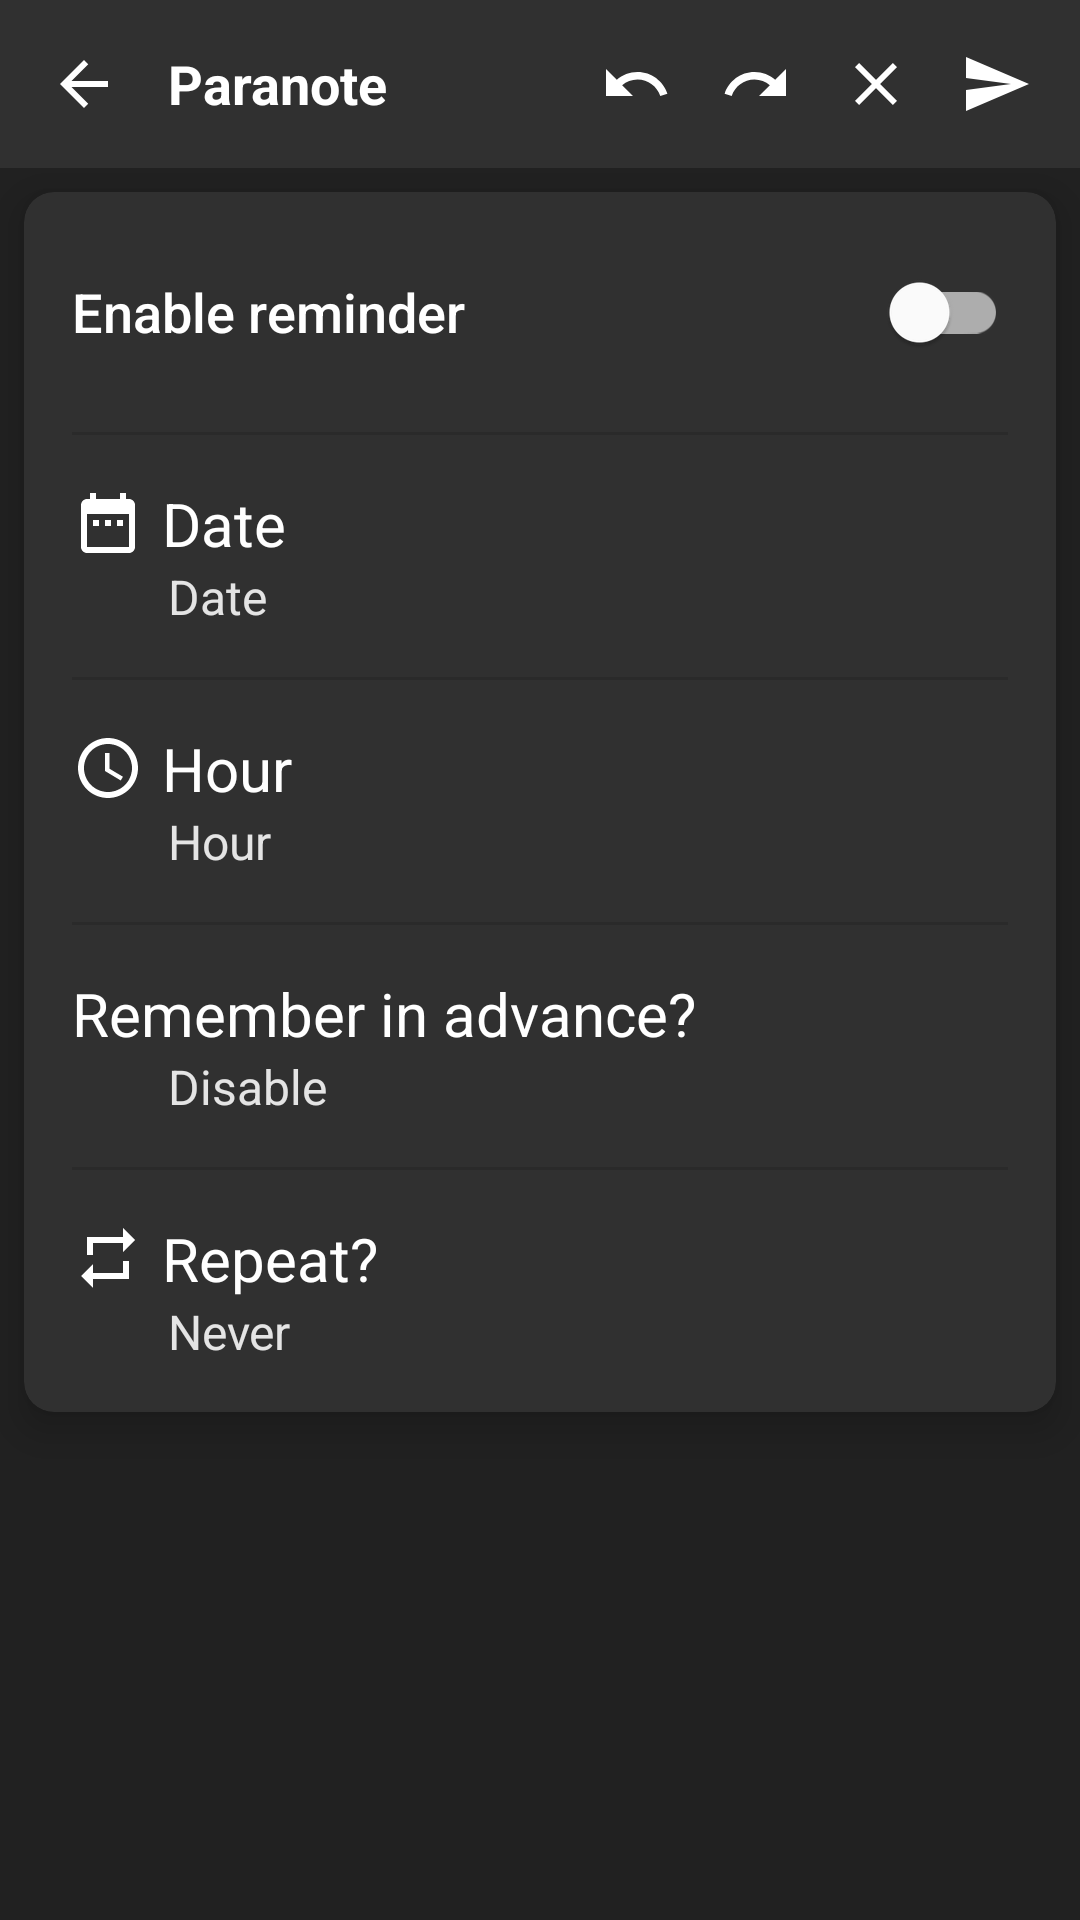

Icon click points for this 1080*1920 phone screenshot, format [x,y]:
back: [84,84]
close: [876,84]
redo: [755,82]
send: [997,84]
undo: [637,82]
